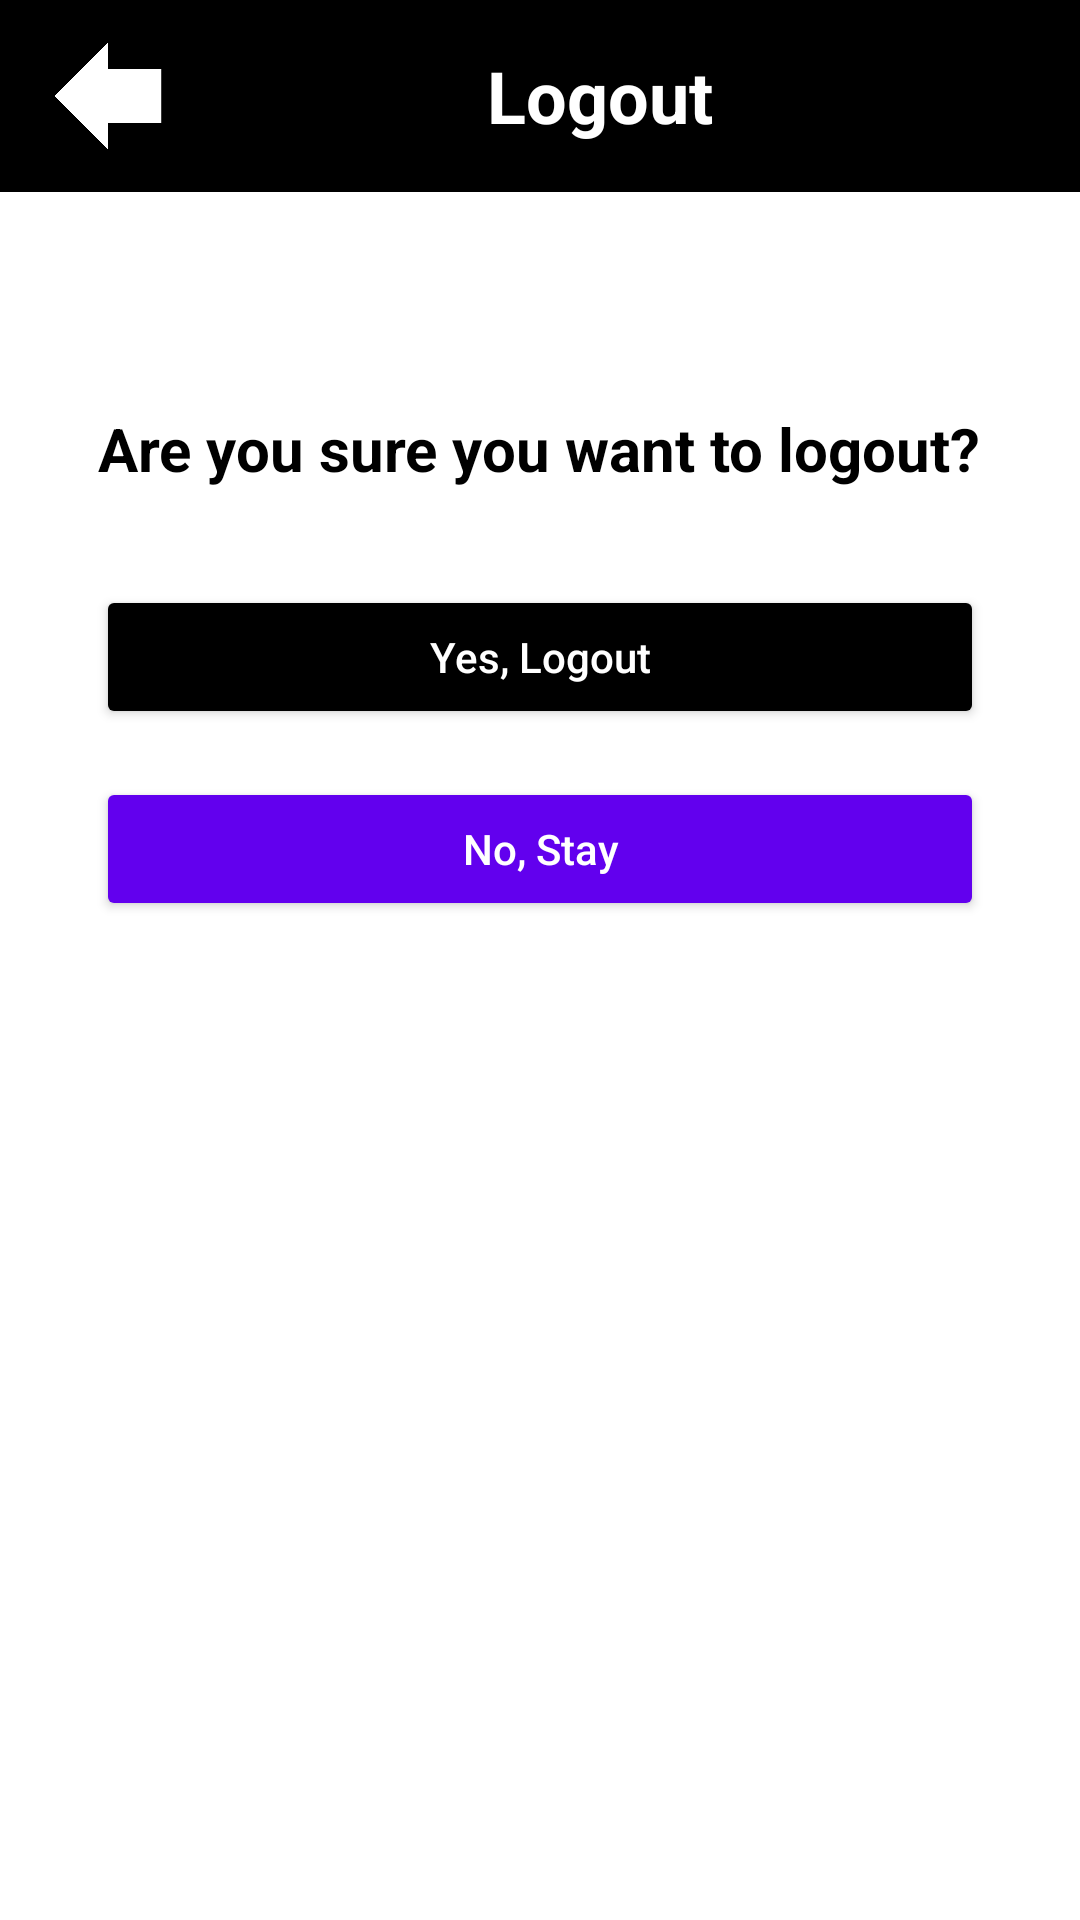

Icons on this 1080*1920 Android screen, each with the point to tap as (x=x, y=y):
Back: (x=108, y=96)
